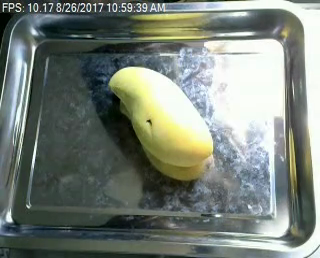Mango: (103, 61, 219, 188)
